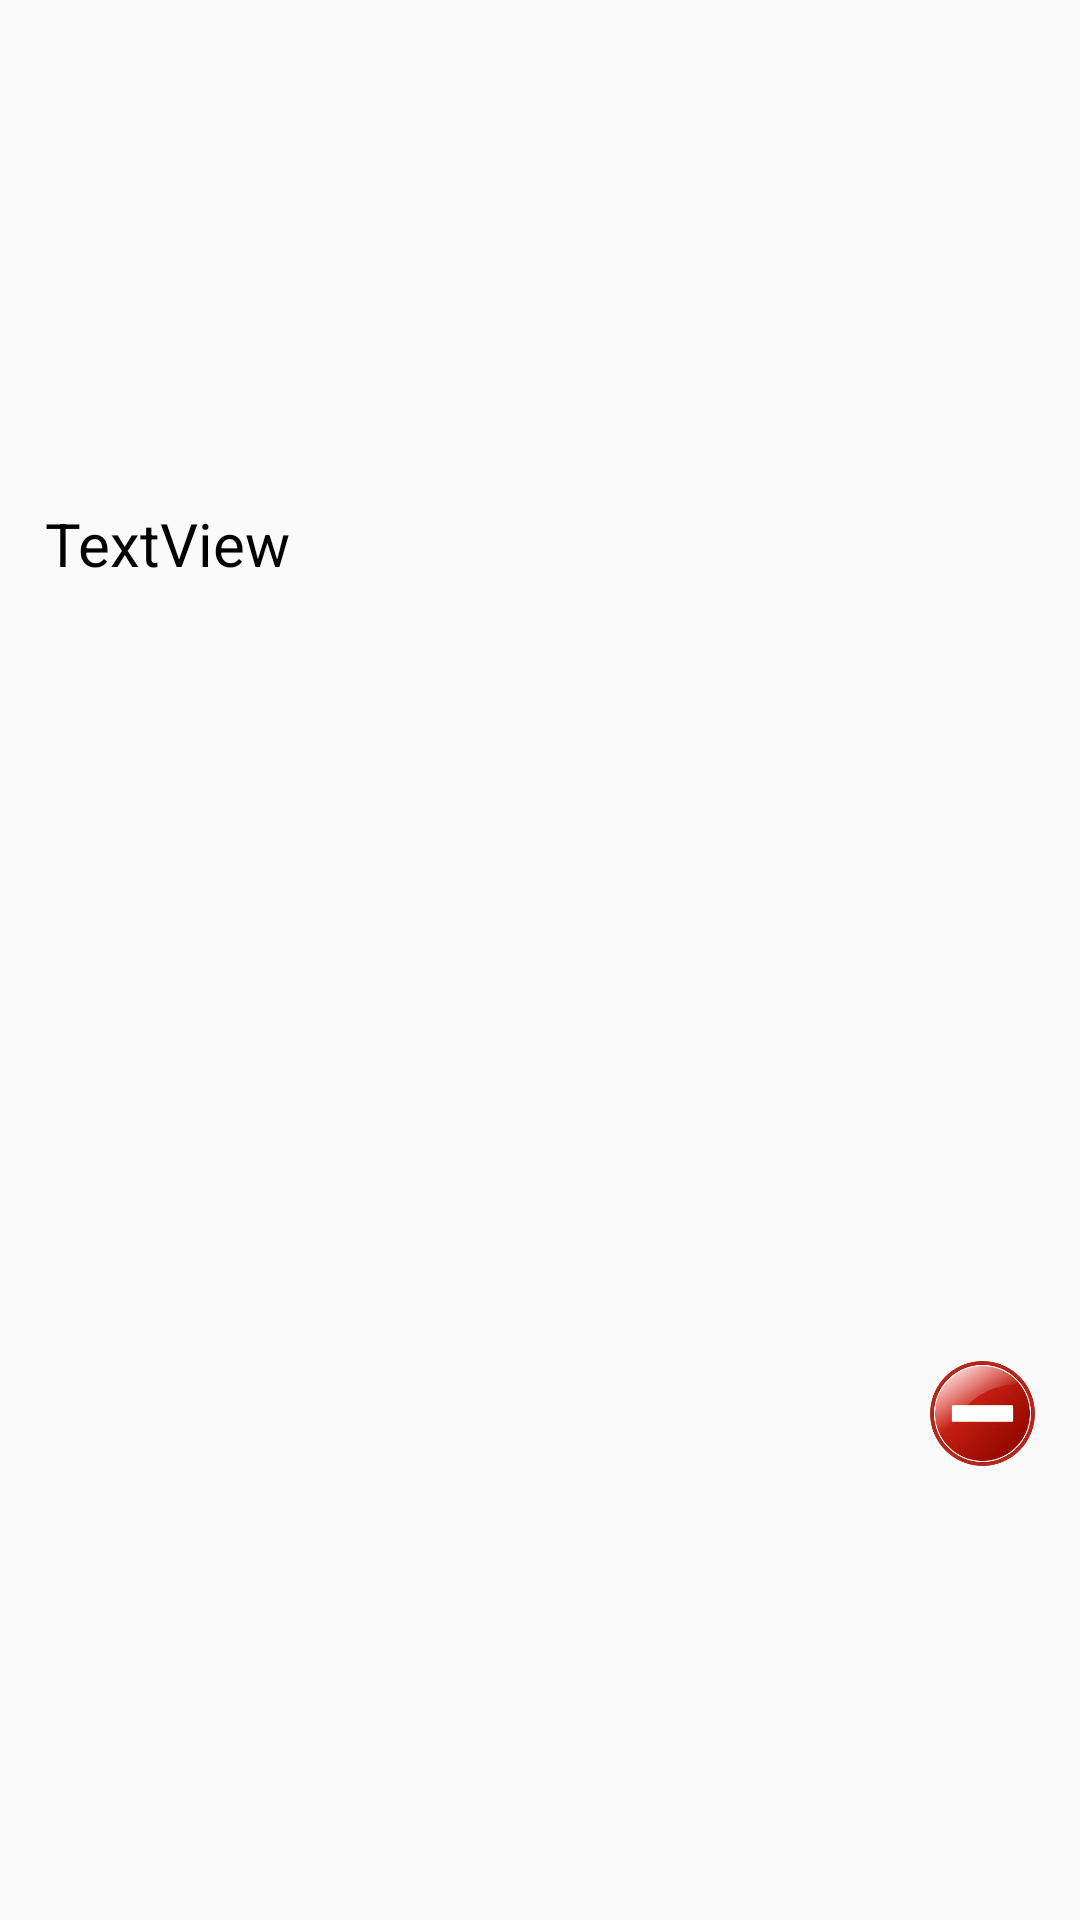

Icon click points for this 1080 x 1920 phone screenshot, format [x,y]:
delete: [982,1413]
